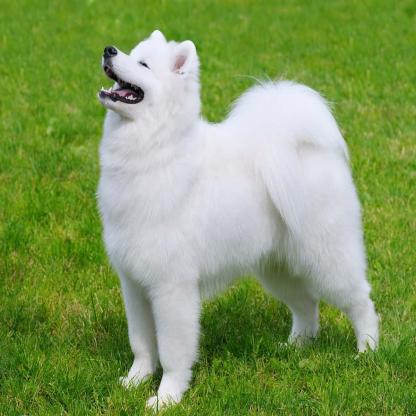dog: (93, 29, 382, 410)
